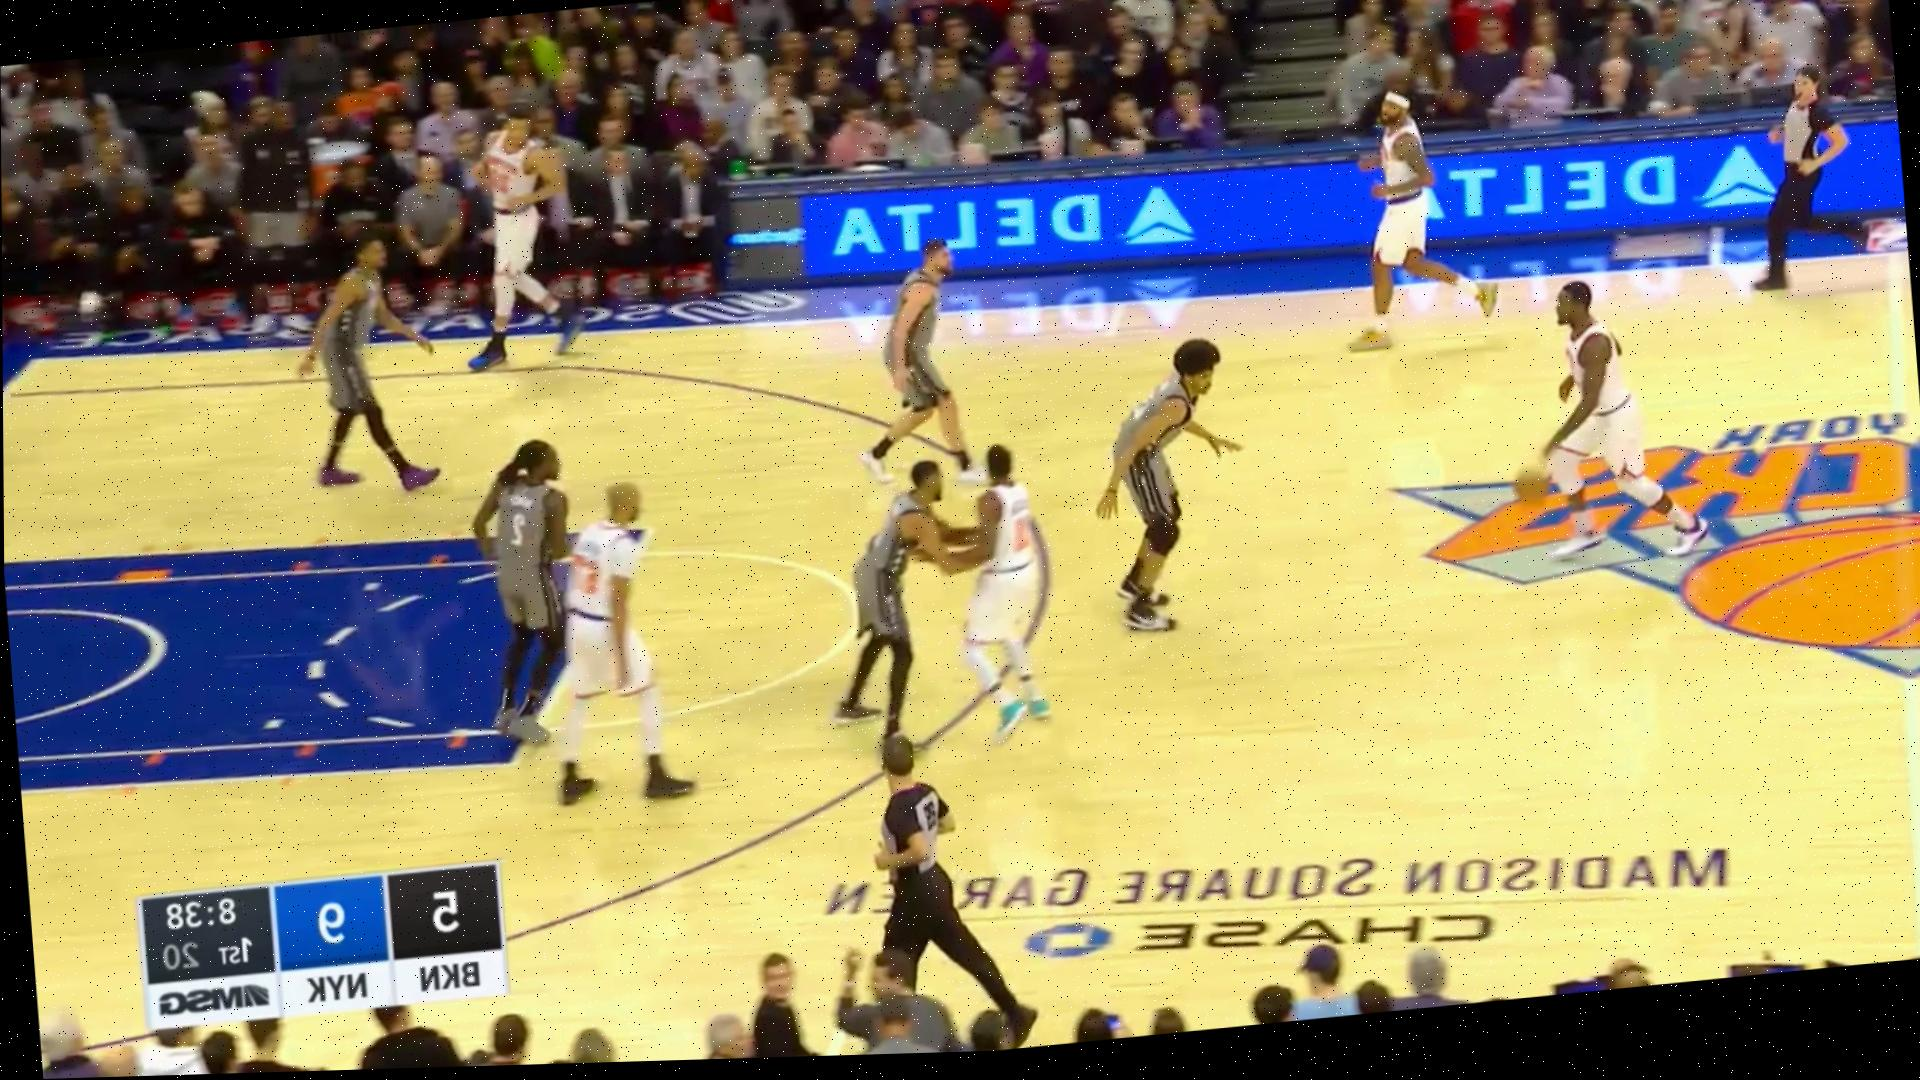no_foul: (828, 429, 1050, 720)
